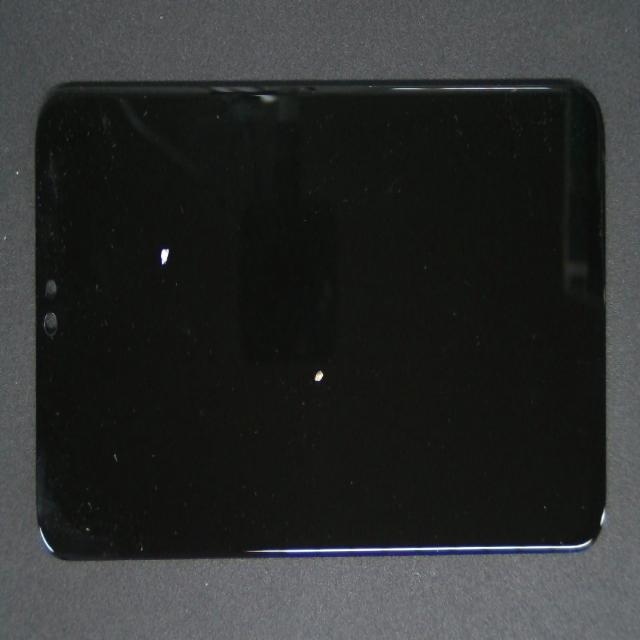stain: (179, 172, 486, 531), (103, 102, 252, 341)
